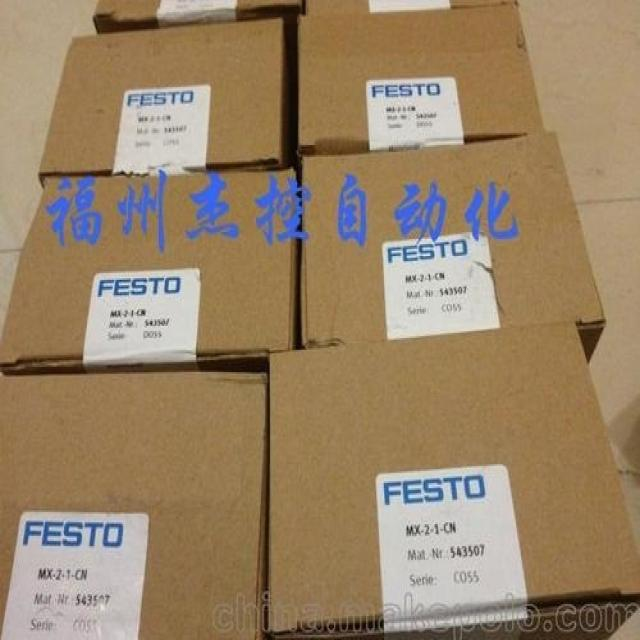box: (269, 323, 640, 640), (0, 370, 266, 640), (301, 128, 605, 360), (0, 171, 296, 377), (37, 19, 282, 189), (300, 5, 547, 160), (93, 0, 302, 32), (306, 0, 517, 14)
